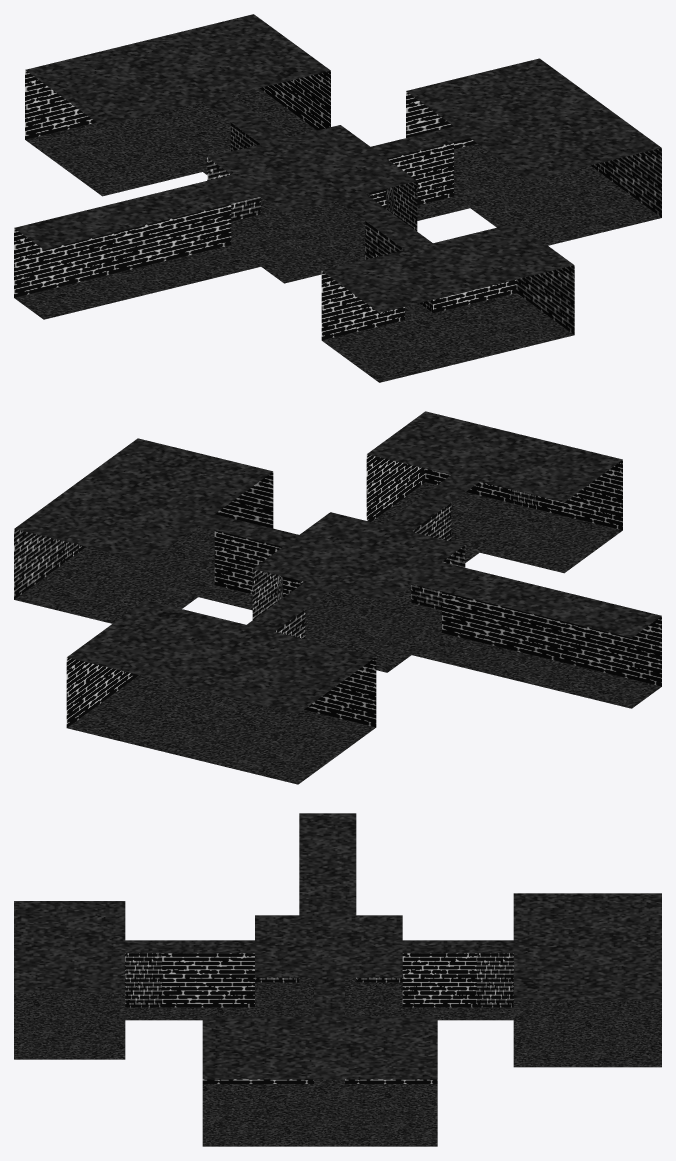
The model's file is test_level.fbx.
The picture shows the model from 3 angles, top to bottom: view 1: azimuth 30°, elevation 25°; view 2: azimuth 150°, elevation 25°; view 3: azimuth 270°, elevation 25°; orthographic projection. The views are drawn at different scales.
Parts seen in each view (by area): view 1: MATWall_brick; view 2: MATWall_brick; view 3: MATWall_brick.
Boxes of the visible parts, x1,y1,x2,y2 form: MATWall_brick: (14, 14, 661, 382); MATWall_brick: (14, 411, 661, 784); MATWall_brick: (14, 813, 661, 1146).
Bounding box in the file's own units: 3396 × 400 × 3496.
